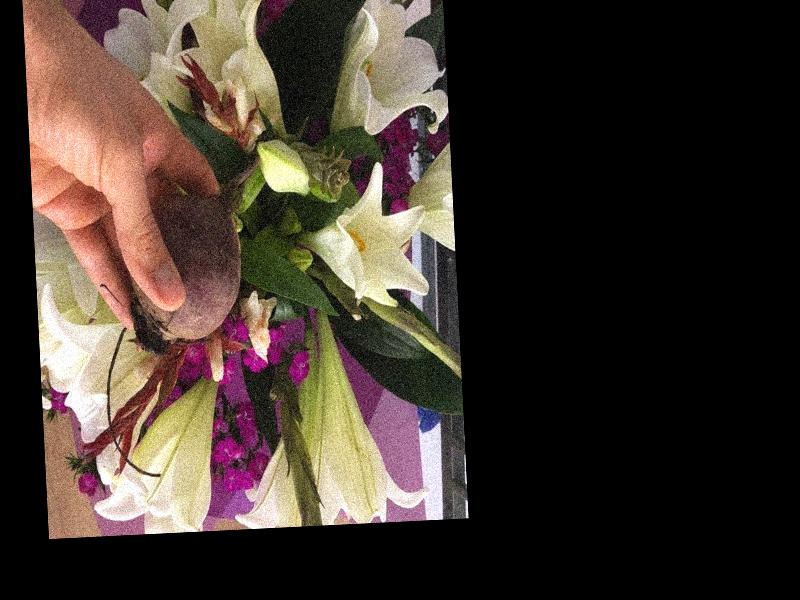Beet: (123, 151, 271, 356)
